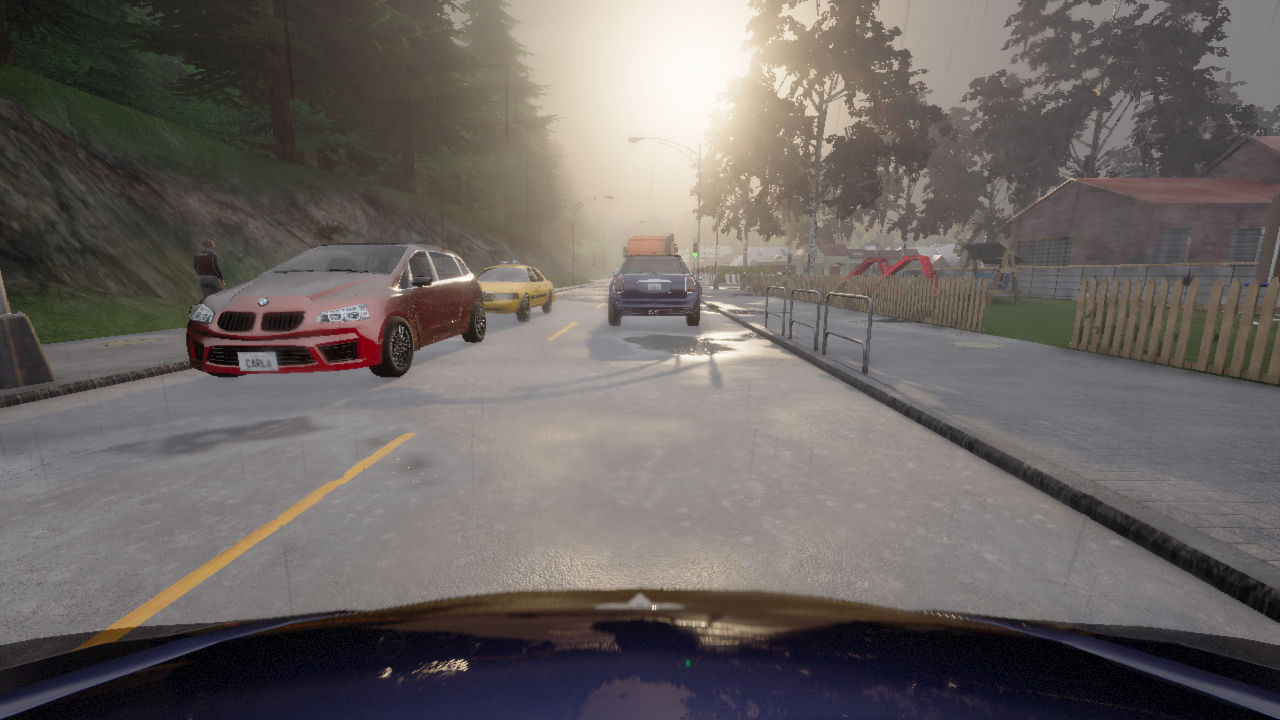cyclist: (0, 588, 1279, 719), (186, 243, 485, 376), (608, 252, 699, 325), (476, 260, 554, 321), (623, 234, 677, 257), (776, 270, 794, 275)
pedestrian: (193, 238, 224, 297)
